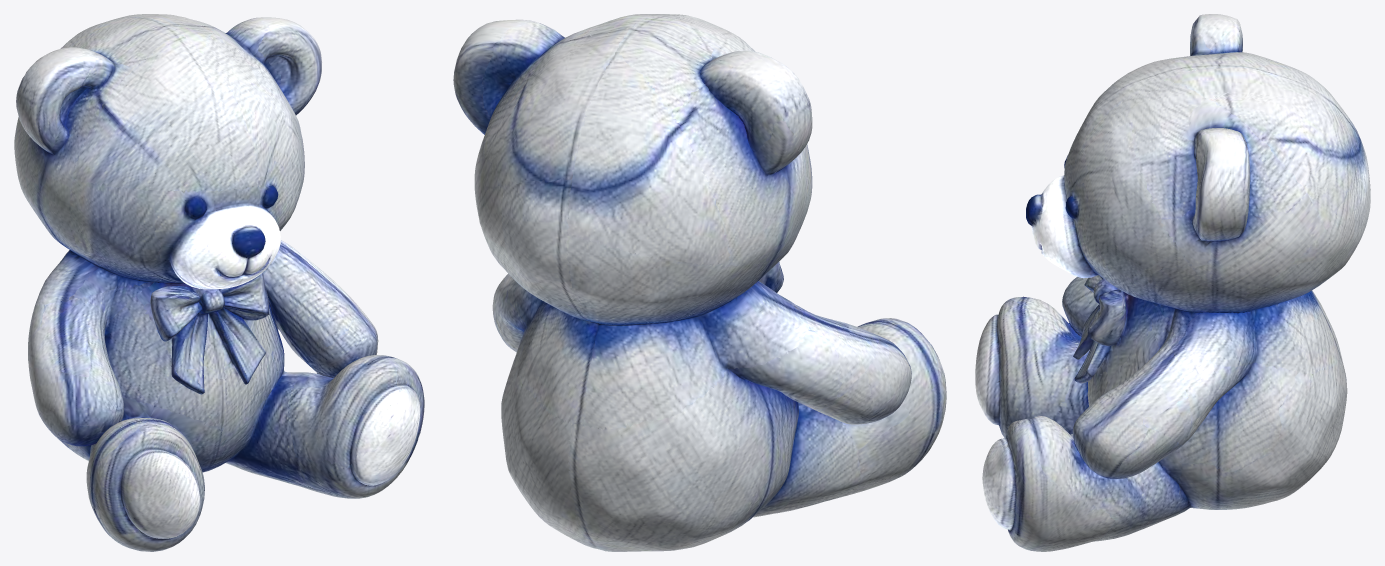
3 renders of one model, left to right at view 1: azimuth 30°, elevation 25°; view 2: azimuth 150°, elevation 25°; view 3: azimuth 270°, elevation 25°, orthographic. The views are drawn at different scales.
Visible parts, largest first — view 1: mesh_node; view 2: mesh_node; view 3: mesh_node.
Part boxes in pixels (<box>): mesh_node: <box>14,14,424,551</box>; mesh_node: <box>453,14,946,551</box>; mesh_node: <box>975,14,1370,551</box>.
Size of the model in its own units: 1.57 by 1.9 by 1.58.
1 material, 1 textured.
